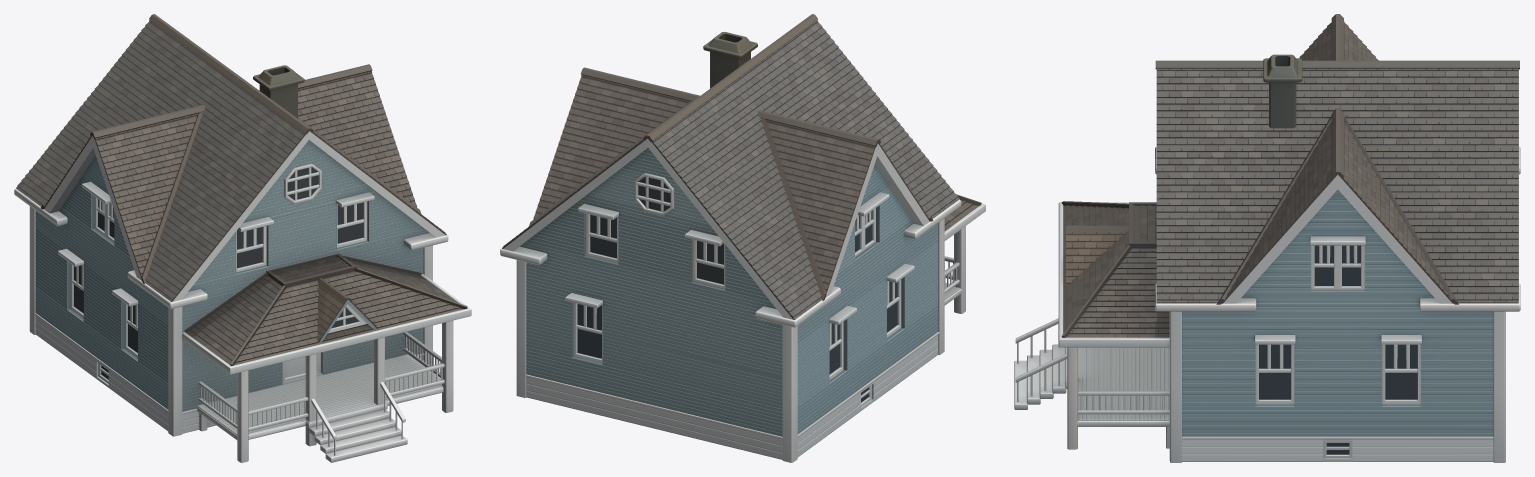
File: house.obj
3 renders of one model, left to right at view 1: azimuth 30°, elevation 25°; view 2: azimuth 150°, elevation 25°; view 3: azimuth 270°, elevation 25°, orthographic. The views are drawn at different scales.
Parts seen in each view (by area): view 1: home.1_Mesh_0; view 2: home.1_Mesh_0; view 3: home.1_Mesh_0.
Part boxes in pixels (box(x1,y1,x2,y2)): home.1_Mesh_0: box(14, 14, 471, 462); home.1_Mesh_0: box(500, 14, 985, 462); home.1_Mesh_0: box(1014, 14, 1520, 462).
Bounding box in the file's own units: 0.6046 × 0.6065 × 0.8156.
